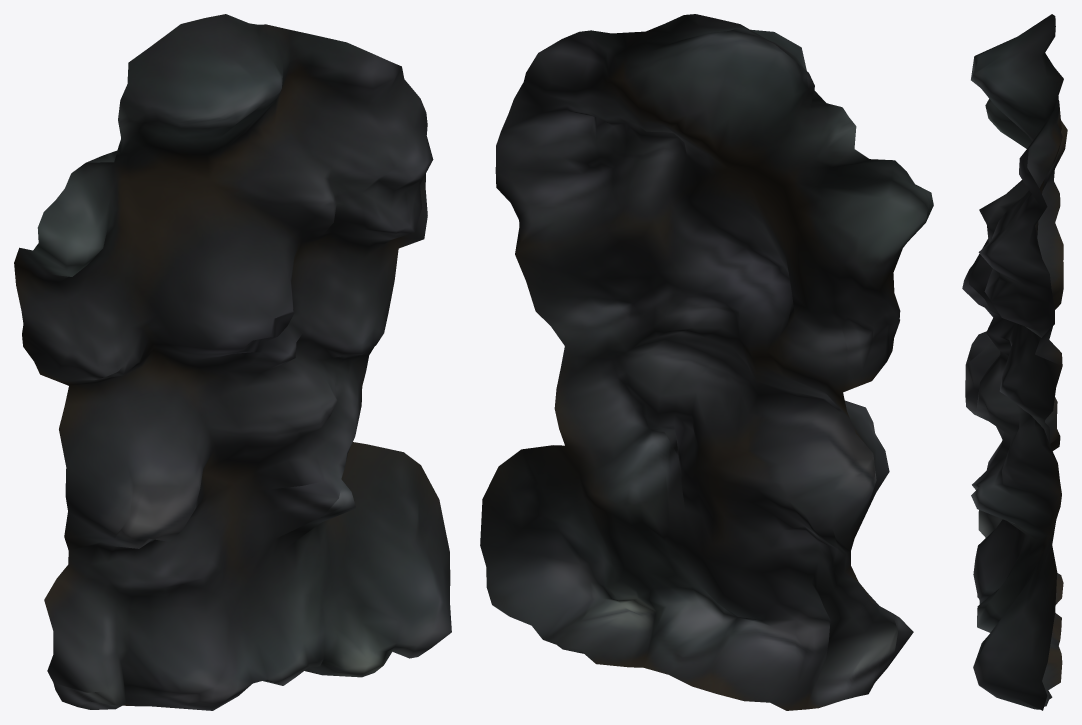
The model's file is Mussels02.fbx.
The picture shows the model from 3 angles, left to right: view 1: azimuth 30°, elevation 25°; view 2: azimuth 150°, elevation 25°; view 3: azimuth 270°, elevation 25°; orthographic projection. The views are drawn at different scales.
Parts seen in each view (by area): view 1: Mussels02; view 2: Mussels02; view 3: Mussels02.
Part boxes in pixels (x1=…): Mussels02: x1=14, y1=14, x2=451, y2=710; Mussels02: x1=480, y1=14, x2=933, y2=710; Mussels02: x1=962, y1=14, x2=1067, y2=710.
Bounding box in the file's own units: 34.66 × 51.6 × 8.15.
